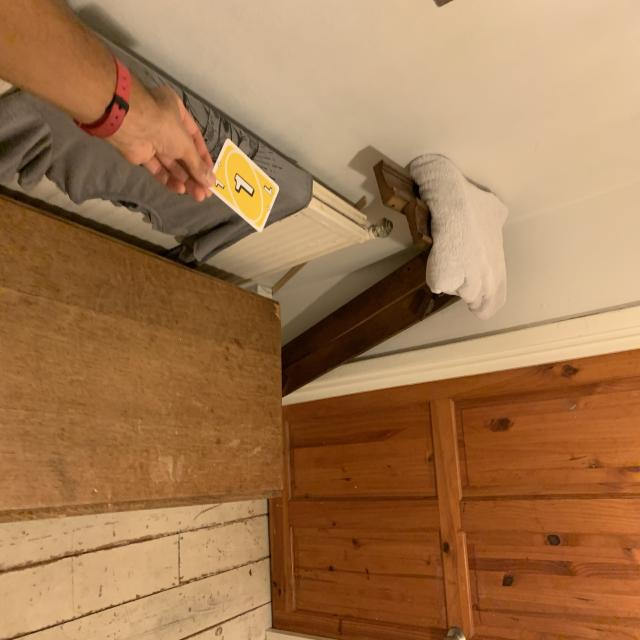lyellow-1: (210, 175, 228, 193)
